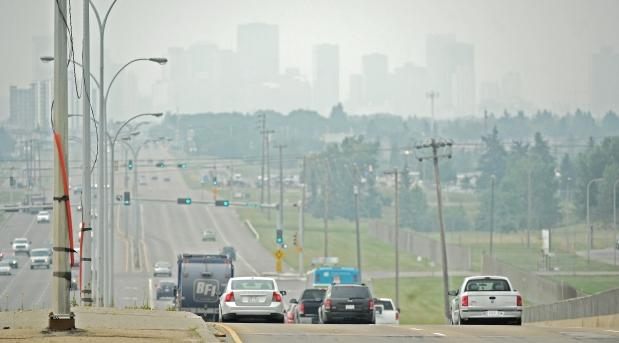bus: (173, 252, 234, 324), (304, 257, 359, 314)
car: (448, 275, 523, 326), (218, 276, 287, 325), (313, 282, 377, 325), (289, 288, 333, 326), (365, 297, 401, 326), (283, 303, 314, 326), (27, 249, 51, 269), (154, 281, 179, 300), (10, 237, 33, 255), (152, 261, 173, 276), (1, 255, 18, 273), (219, 246, 237, 262), (36, 211, 50, 224), (201, 229, 216, 241)
